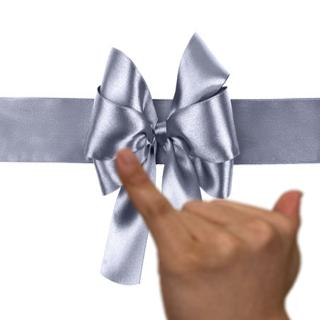HAVE: (103, 140, 317, 320)
